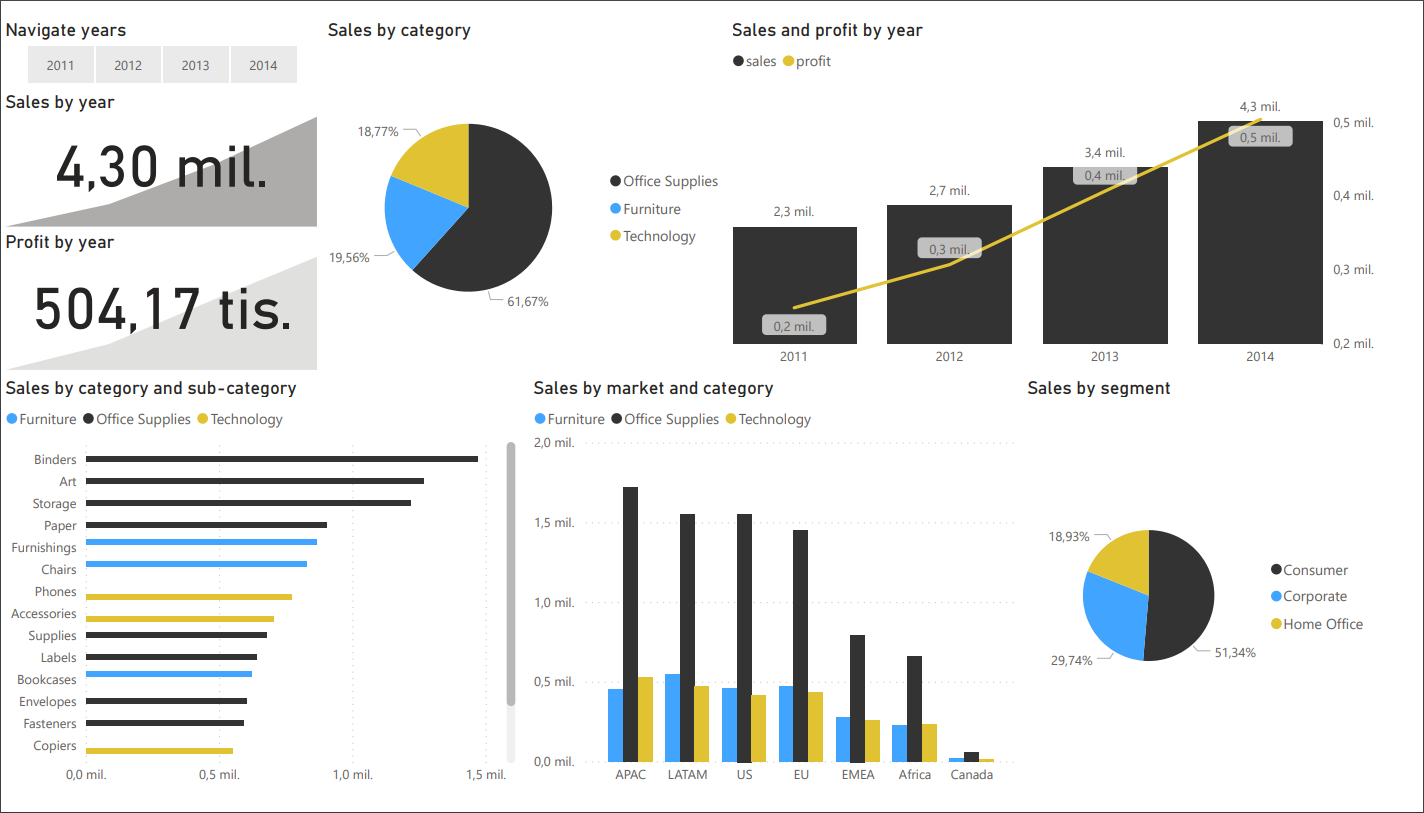

Layout of this report page (visuals, bound fields, positions):
{"tool":"powerbi","page":{"name":"Summary","canvas":[1280,720],"ordinal":0},"visuals":[{"type":"clusteredColumnChart","title":"Sales by market and category","fields":{"Category":["superstore dim_location.market_name"],"Y":["Sum(superstore dim_order.sales)"],"Series":["superstore dim_product.product_category"]},"box":[489.8,331.6,458.7,388.4],"z":0},{"type":"actionButton","box":[0,0,100,40],"z":1000},{"type":"kpi","title":"Sales by year","fields":{"TrendLine":["superstore dim_date.year"],"Indicator":["Sum(superstore dim_order.sales)"]},"box":[0,66.7,298.7,130.7],"z":2000},{"type":"lineStackedColumnComboChart","title":"Sales and profit by year","fields":{"Y":["Sum(superstore dim_order.sales)"],"Y2":["Sum(superstore dim_order.profit)"],"Category":["superstore dim_date.year"]},"box":[673.8,0,606.2,331.6],"z":3000},{"type":"pieChart","title":"Sales by category","fields":{"Y":["Sum(superstore dim_order.sales)"],"Category":["superstore dim_product.product_category"]},"box":[298.7,0,381.3,331.6],"z":4000},{"type":"clusteredBarChart","title":"Sales by category and sub-category","fields":{"Y":["Sum(superstore dim_order.sales)"],"Series":["superstore dim_product.product_category"],"Category":["superstore dim_product.product_sub_category"]},"box":[0,331.6,482.7,388.4],"z":5000},{"type":"slicer","title":"Navigate years","fields":{"Values":["superstore dim_date.year"]},"box":[0,0,298.7,66.7],"z":6000},{"type":"kpi","title":"Profit by year","fields":{"Indicator":["Sum(superstore dim_order.profit)"],"TrendLine":["superstore dim_date.year"]},"box":[0,197.3,298.7,134.2],"z":7000},{"type":"pieChart","title":"Sales by segment","fields":{"Y":["Sum(superstore dim_order.sales)"],"Category":["superstore dim_customer.segment"]},"box":[948.4,331.6,331.6,388.4],"z":7001}]}

Visuals, with their boxes in screenshot pixels (x1, y1, x2, y2), scaled from the page's 1280x720 canvas onto the 1424x813 screenshot:
"Sales by market and category" clusteredColumnChart: <bbox>545, 374, 1055, 812</bbox>
actionButton: <bbox>0, 0, 111, 45</bbox>
"Sales by year" kpi: <bbox>0, 75, 332, 223</bbox>
"Sales and profit by year" lineStackedColumnComboChart: <bbox>750, 0, 1423, 374</bbox>
"Sales by category" pieChart: <bbox>332, 0, 756, 374</bbox>
"Sales by category and sub-category" clusteredBarChart: <bbox>0, 374, 537, 812</bbox>
"Navigate years" slicer: <bbox>0, 0, 332, 75</bbox>
"Profit by year" kpi: <bbox>0, 223, 332, 374</bbox>
"Sales by segment" pieChart: <bbox>1055, 374, 1423, 812</bbox>
